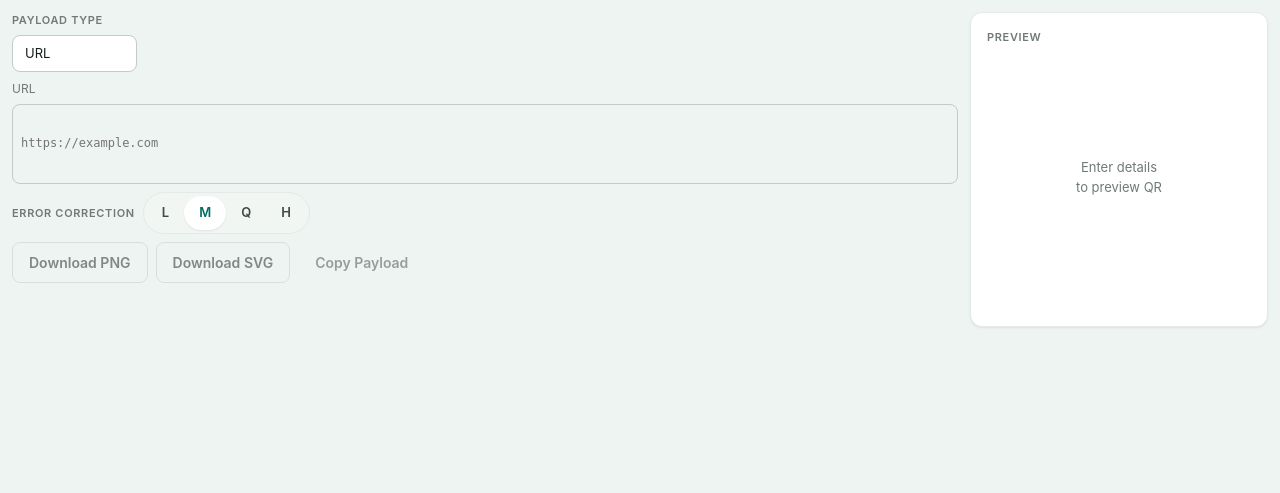
Test: QR page › shows WiFi fields when type switched to wifi
Select "Wi-Fi" in the dropdown labelled "Payload Type" at [74, 53], box x1=12 y1=34 x2=137 y2=72
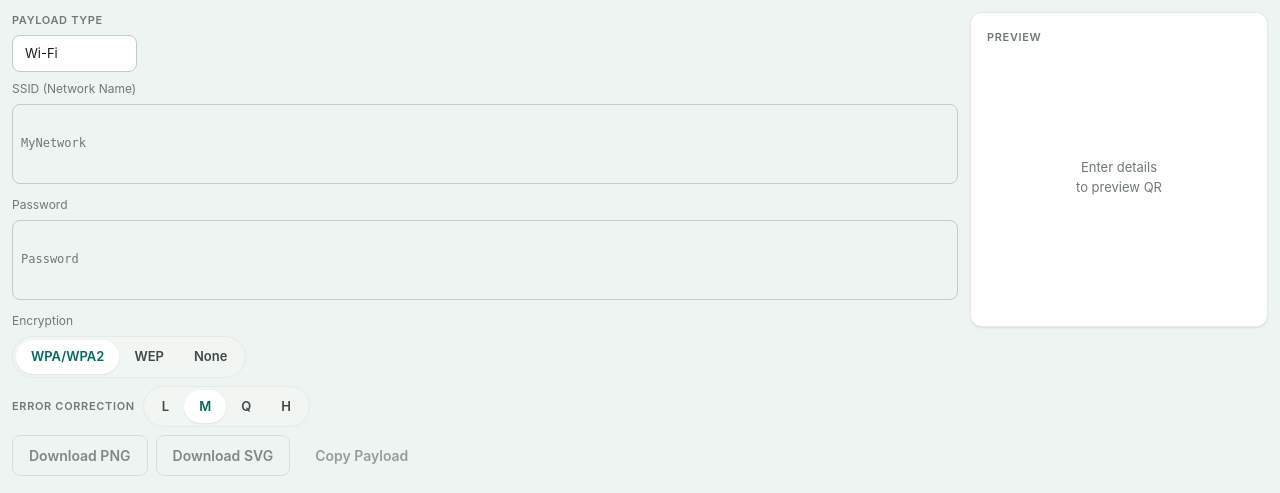
expect the field with test id "qr-wifi-ssid" is shown: met, box x1=12 y1=104 x2=958 y2=184
expect the password field with test id "qr-wifi-password" is shown: met, box x1=12 y1=220 x2=958 y2=300
